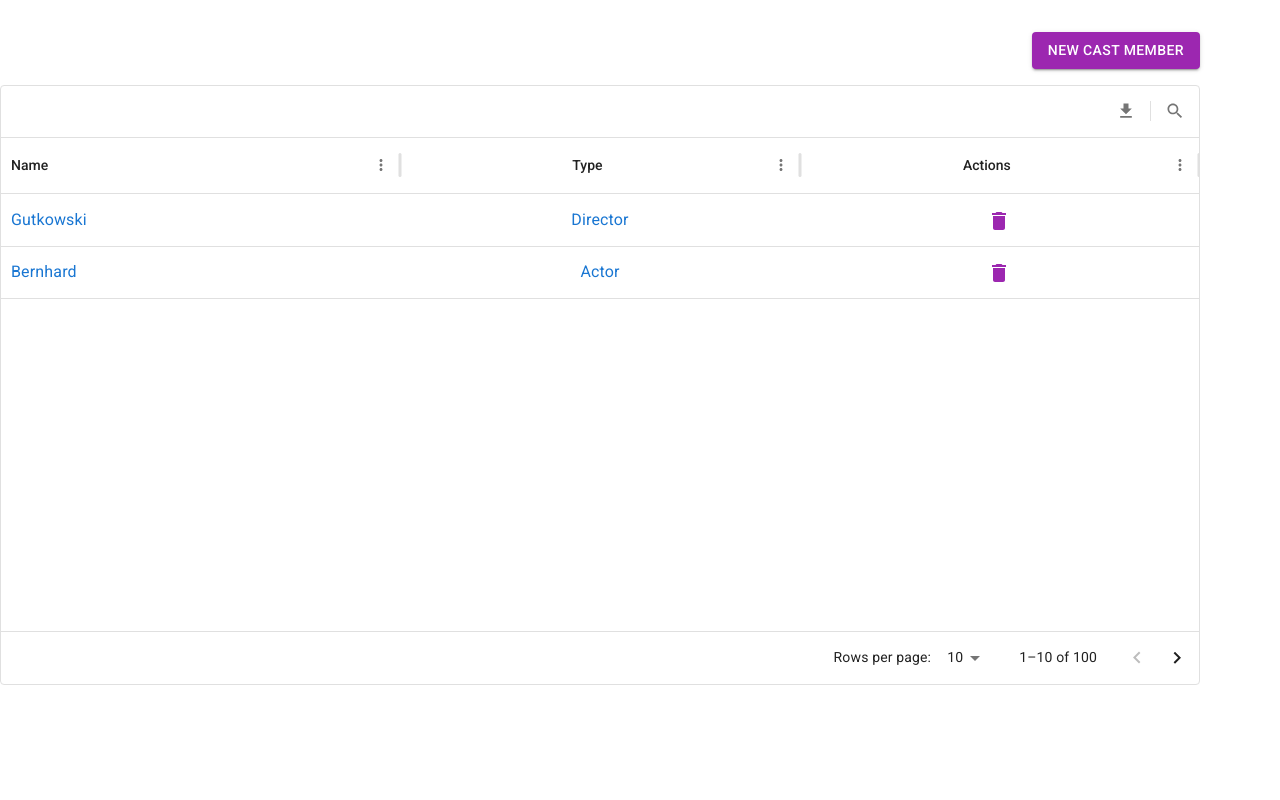
Test: ListCastMember › should handle on PageChange
Expected: the text "Gutkowski" is shown, top-left (11, 208), bottom-right (87, 232)
Click the button with test id "KeyboardArrowRightIcon".
click(1177, 658)  # box top-left (1157, 638), bottom-right (1197, 678)
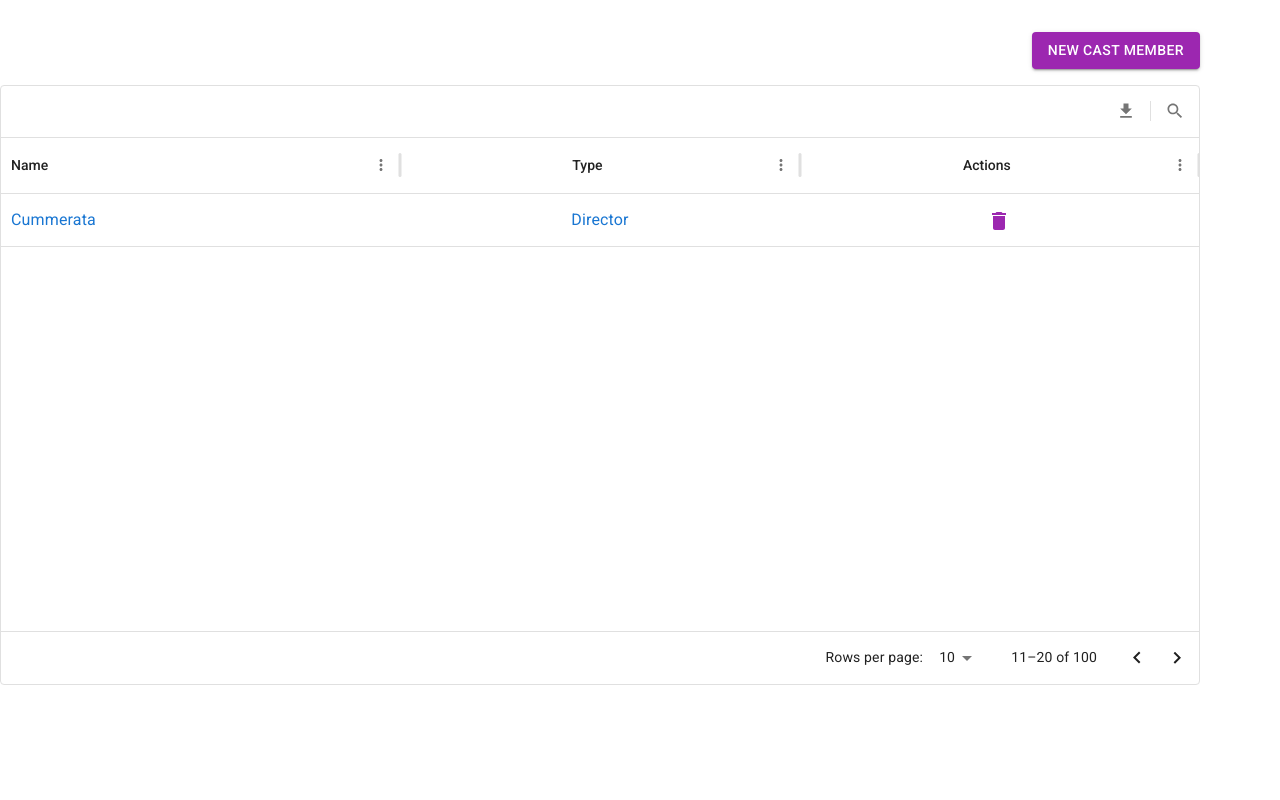
Result: the text "Cummerata" is shown at top-left (11, 208), bottom-right (96, 232)
